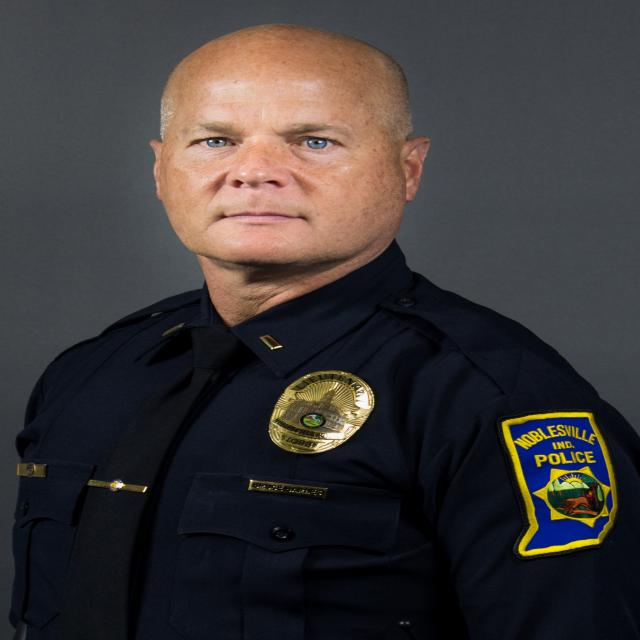police: (19, 16, 640, 640)
